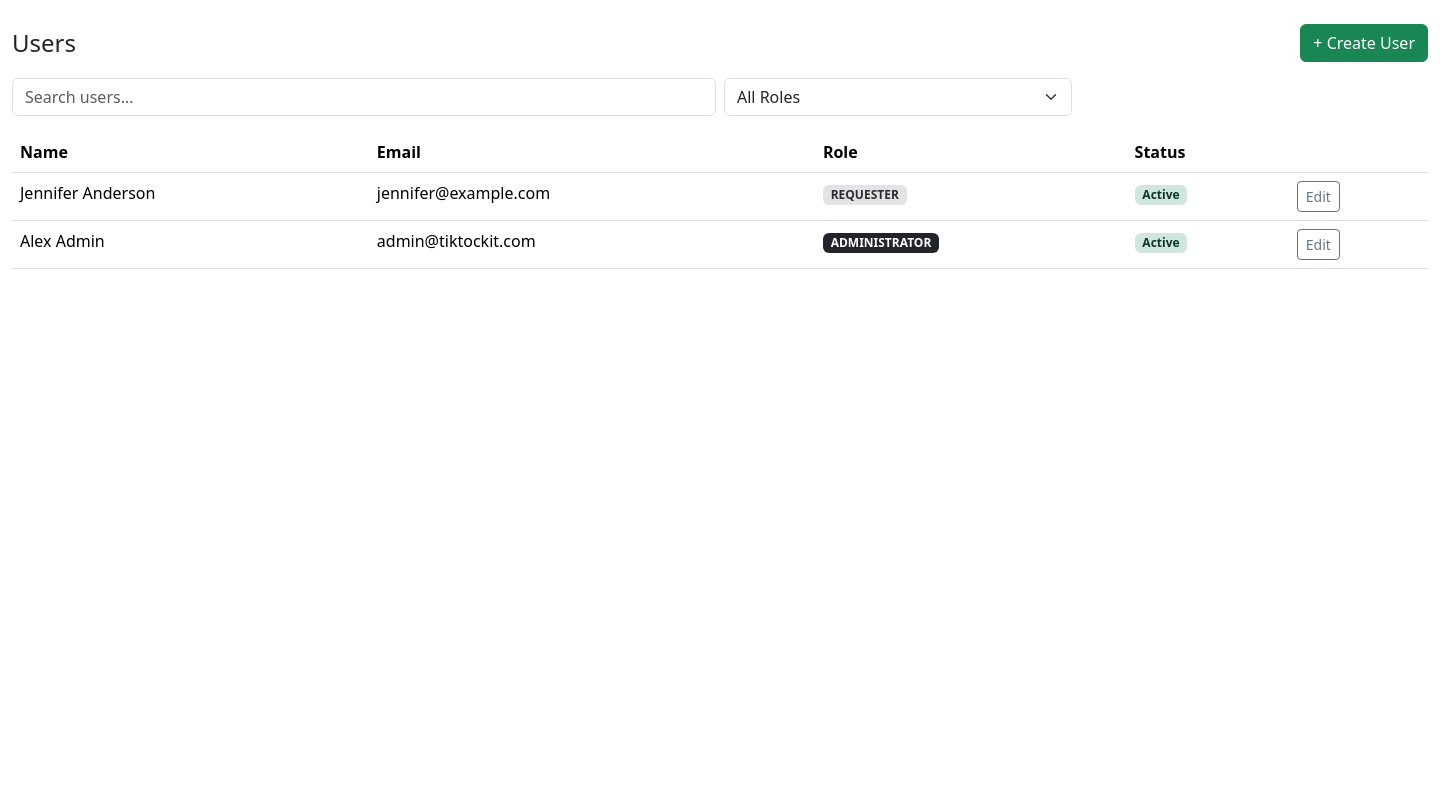
Test: AdminUsers › disables the Active toggle when editing your own account
Step 1. Click the button "Edit" in the row of "Alex Admin" → point(1318, 244), box [1297,229,1340,260]
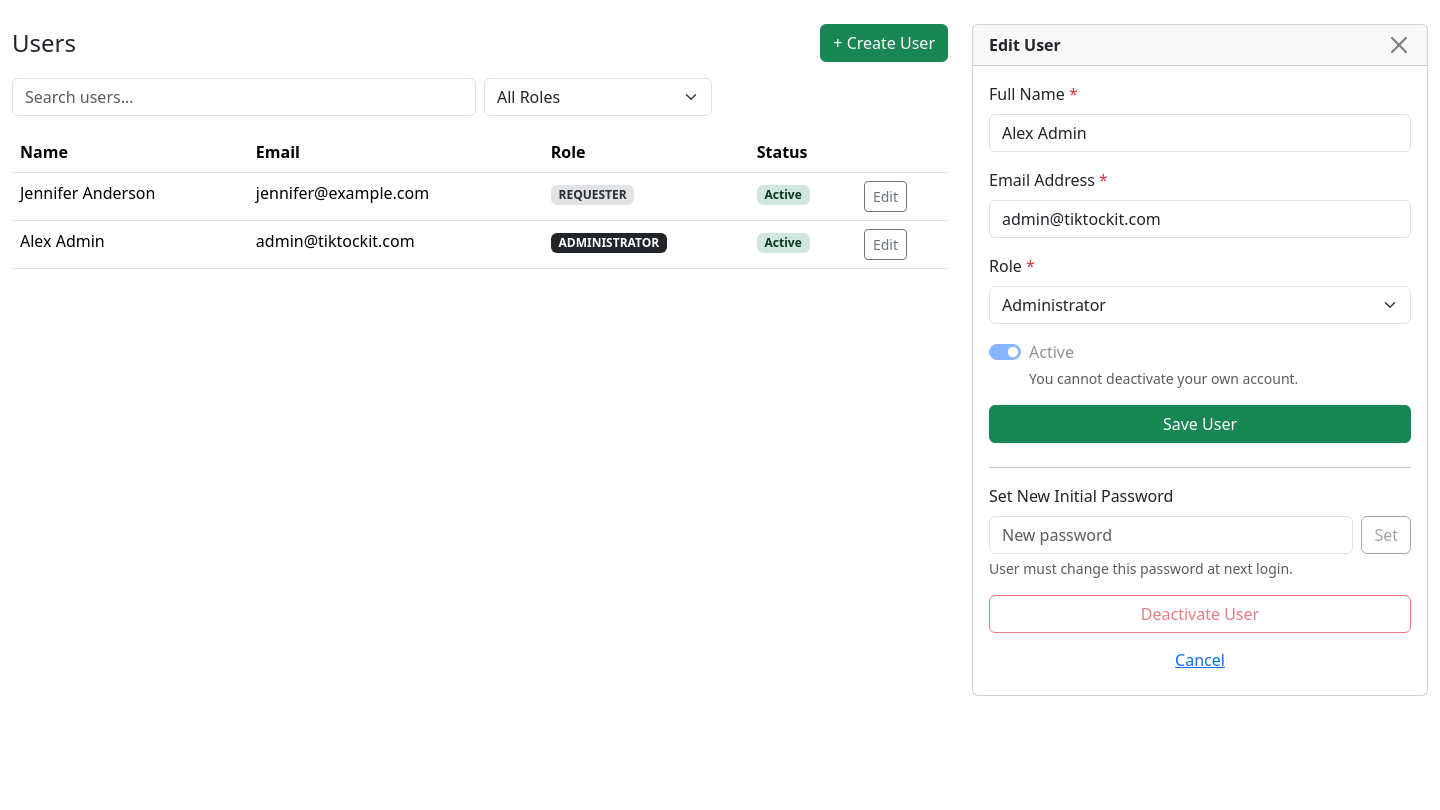
Check: the checkbox labelled "Active" is disabled, box [989,344,1021,360]
